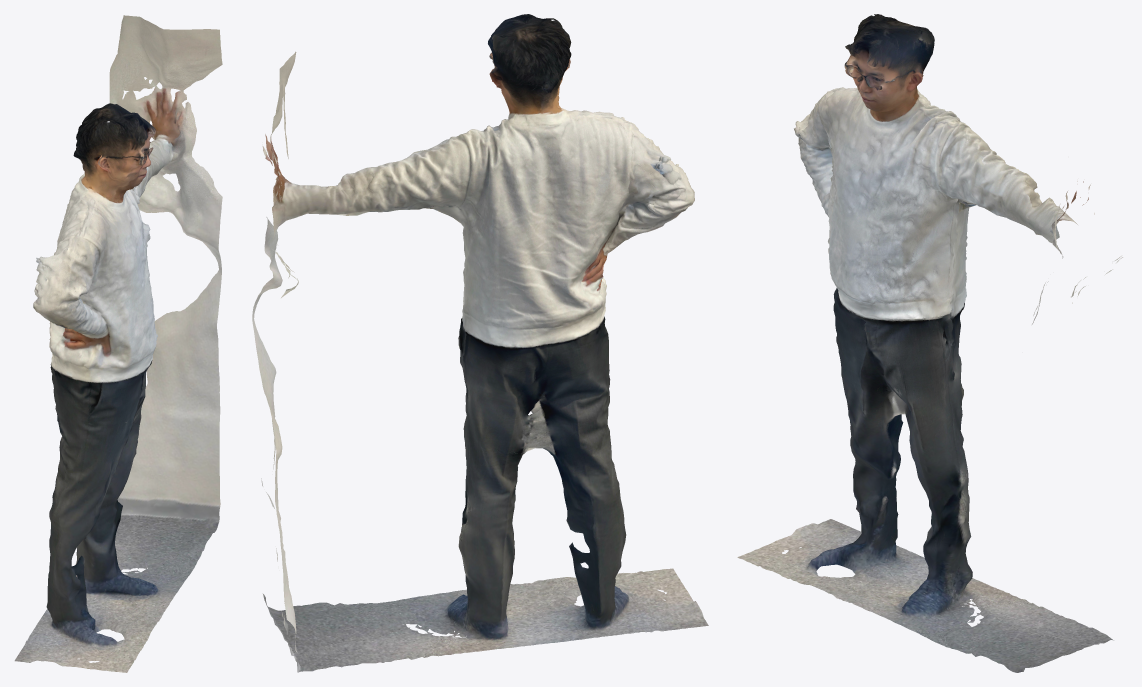
Rendered from Tsun.glb.
3 views of the same model, side by side, from view 1: azimuth 30°, elevation 25°; view 2: azimuth 150°, elevation 25°; view 3: azimuth 270°, elevation 25° (orthographic). The views are drawn at different scales.
Parts seen in each view (by area): view 1: eb0e453e-69f7-4ac7-be17-84d73ba10b2c; view 2: eb0e453e-69f7-4ac7-be17-84d73ba10b2c; view 3: eb0e453e-69f7-4ac7-be17-84d73ba10b2c.
Part boxes in pixels (x1=…): eb0e453e-69f7-4ac7-be17-84d73ba10b2c: x1=14, y1=15, x2=222, y2=672; eb0e453e-69f7-4ac7-be17-84d73ba10b2c: x1=252, y1=14, x2=708, y2=672; eb0e453e-69f7-4ac7-be17-84d73ba10b2c: x1=737, y1=14, x2=1122, y2=672.
Size of the model in its own units: 1.03 by 1.65 by 1.03.
1 material, 1 textured.
